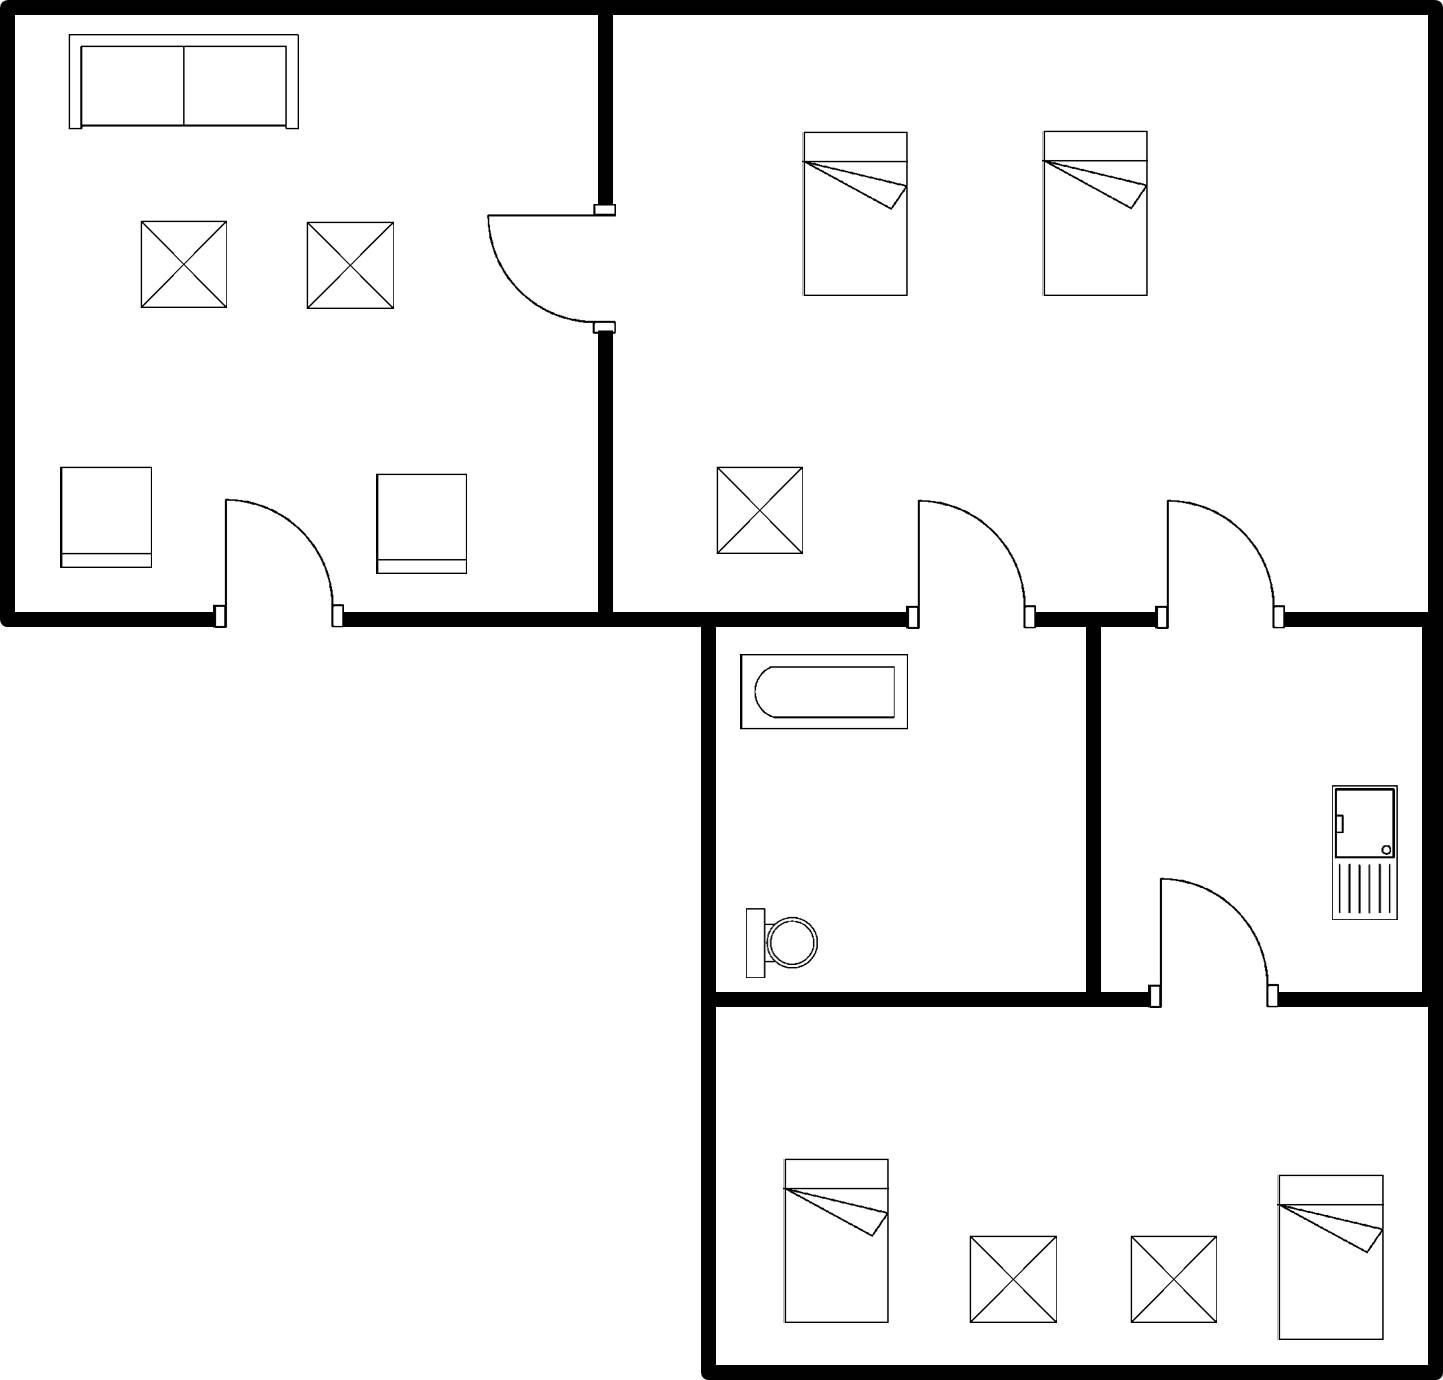bed: (1032, 119, 1162, 308), (771, 1150, 901, 1337), (793, 122, 920, 306), (1267, 1166, 1393, 1350)
coffee_table: (705, 456, 819, 566), (955, 1224, 1067, 1334), (131, 214, 239, 319), (296, 212, 404, 318), (1123, 1226, 1228, 1333)
large_sink: (736, 899, 825, 988)
large_sofa: (58, 26, 311, 143)
sink: (1324, 777, 1407, 927)
small_sofa: (46, 458, 166, 581), (369, 465, 475, 585)
tub: (728, 643, 919, 741)
